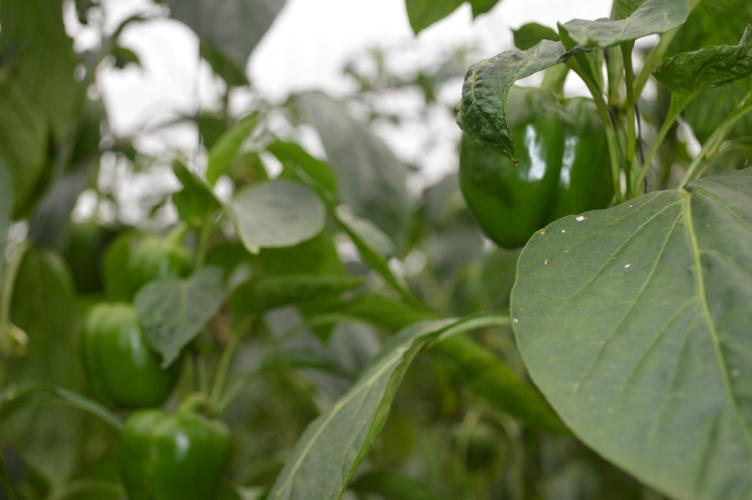BellPepper: (451, 82, 607, 232), (111, 411, 232, 499), (75, 301, 176, 403), (97, 235, 188, 292)
